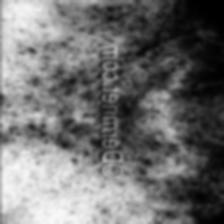Non-Cancerous Skin Condition: (130, 21, 224, 216), (0, 0, 88, 179), (93, 0, 191, 20)
